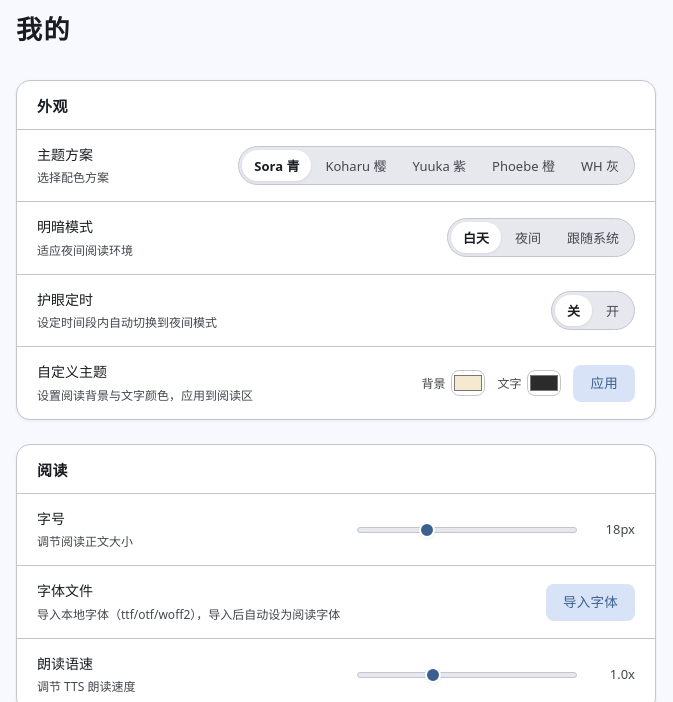
Test: SettingsPage › toggles 护眼定时 and shows time inputs
Check: the text "护眼定时" is shown, box left=37, top=290, right=93, bottom=309
Step 1. Click the button "开" → (612, 310), box left=594, top=295, right=631, bottom=326
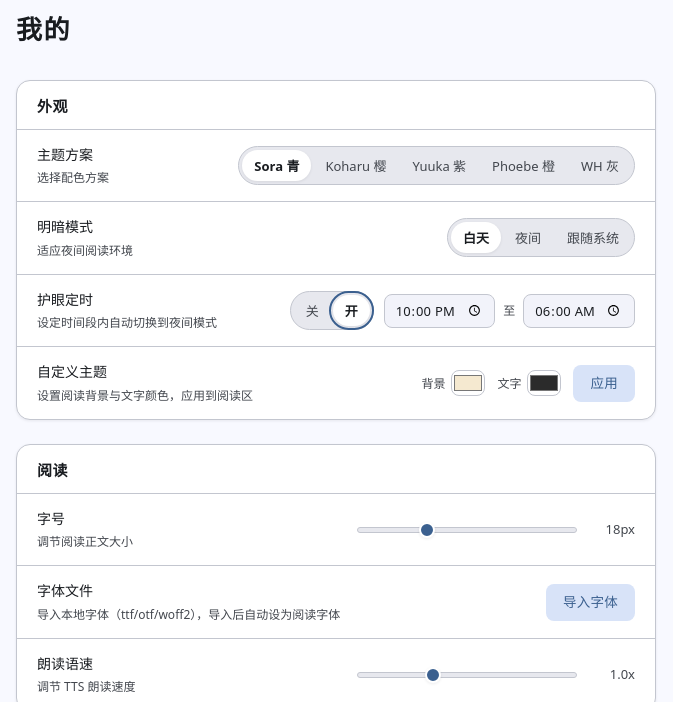
Check: the time field named "护眼开始时间" is shown, box left=384, top=294, right=495, bottom=328
Check: the time field named "护眼结束时间" is shown, box left=523, top=294, right=635, bottom=328
